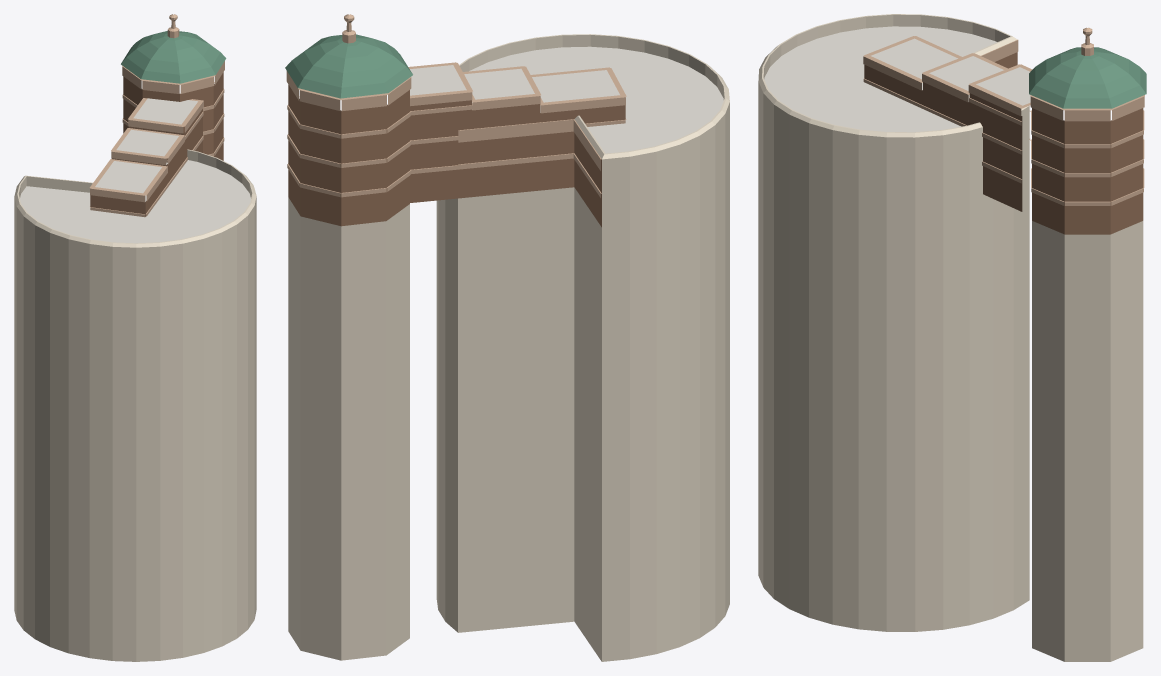
Rendered from lv-hoover-dam-visitor-center.glb.
3 renders of one model, left to right at view 1: azimuth 30°, elevation 25°; view 2: azimuth 150°, elevation 25°; view 3: azimuth 270°, elevation 25°, orthographic. The views are drawn at different scales.
Parts seen in each view (by area): view 1: Hoover Dam Visitor Center; view 2: Hoover Dam Visitor Center; view 3: Hoover Dam Visitor Center.
Part boxes in pixels (x1=…): Hoover Dam Visitor Center: x1=14, y1=14, x2=256, y2=661; Hoover Dam Visitor Center: x1=285, y1=14, x2=729, y2=661; Hoover Dam Visitor Center: x1=758, y1=14, x2=1146, y2=661.
Bounding box in the file's own units: 42.1 × 78.3 × 45.09.
